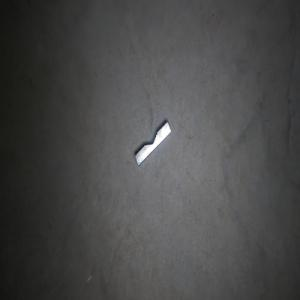ClampPart: (134, 120, 171, 167)
